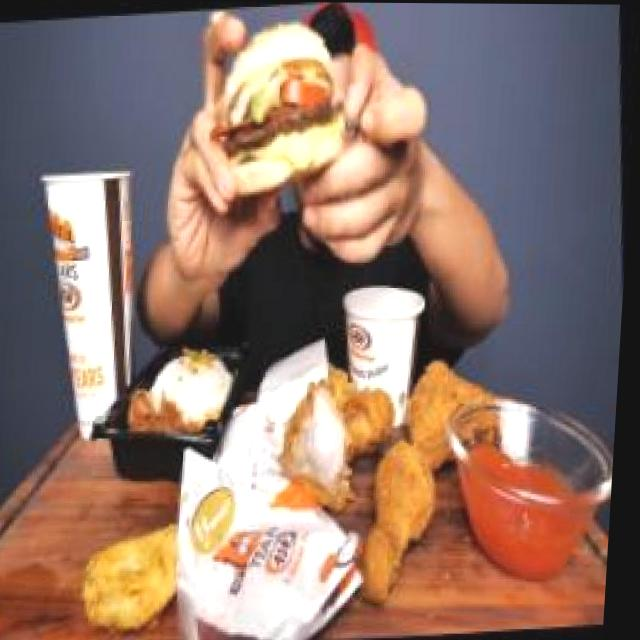AW cola: (27, 138, 177, 444)
black pepper rice bowl: (119, 314, 250, 460)
fried chicken: (275, 360, 529, 606)
mozza burger: (197, 1, 375, 220)
perkedel: (75, 503, 215, 640)
